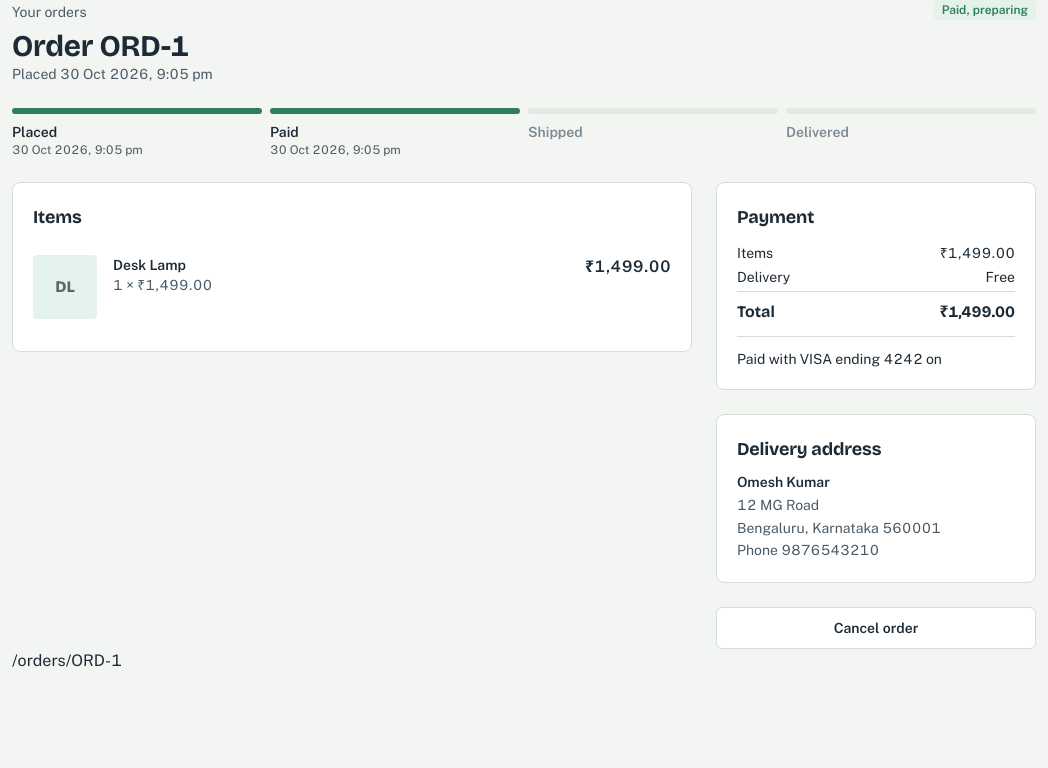
it: order page › cancels a paid order with a reason and says a refund is coming
Expected: the element with test id "order-status" reads "Paid, preparing", [942,3,1028,17]
Click the button "Cancel order": (876, 628) [716,607,1036,649]
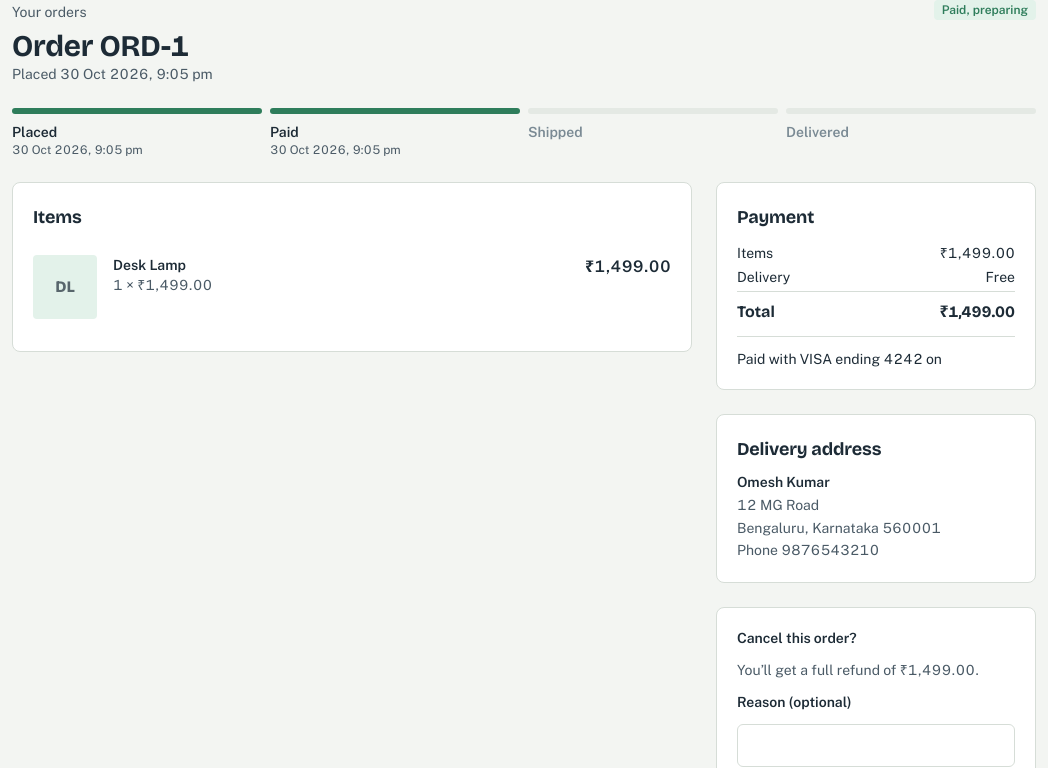
Result: the text "You’ll get a full refund of ₹1,499.00." is shown at [737,660,1015,680]
In the field labelled "Reason (optional)": (876, 746) [737,724,1015,767], type "Ordered by mistake"
(page scrolled)
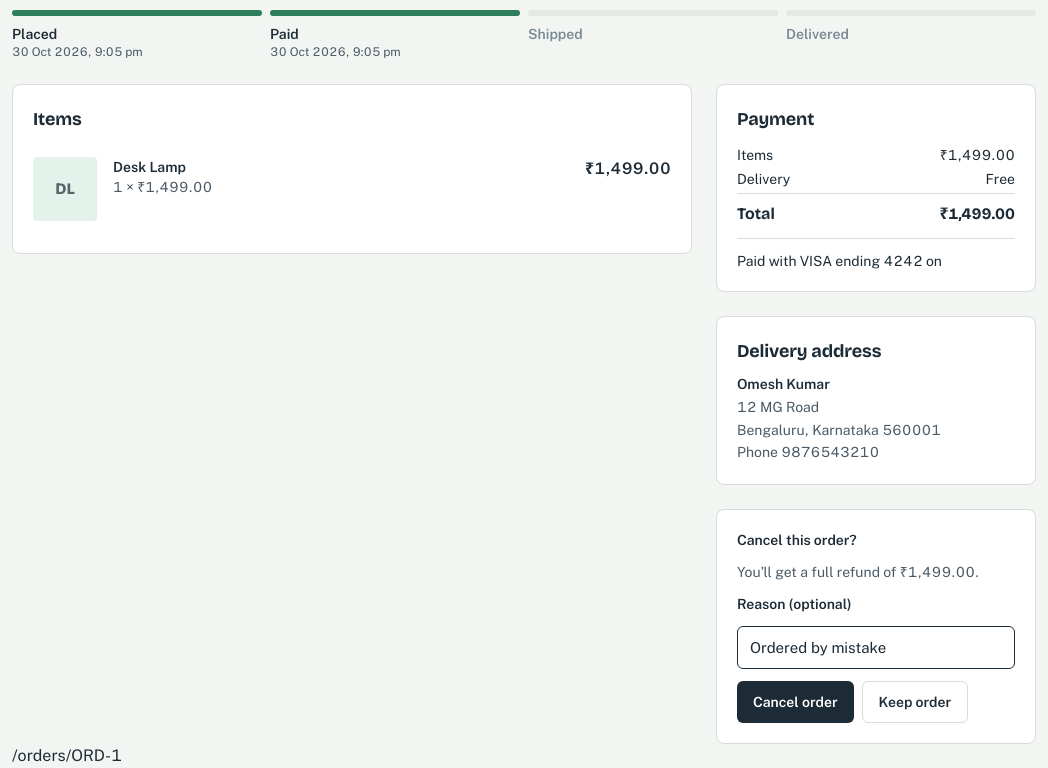
Click the button "Cancel order": (795, 702) [737,681,854,723]
(page scrolled)
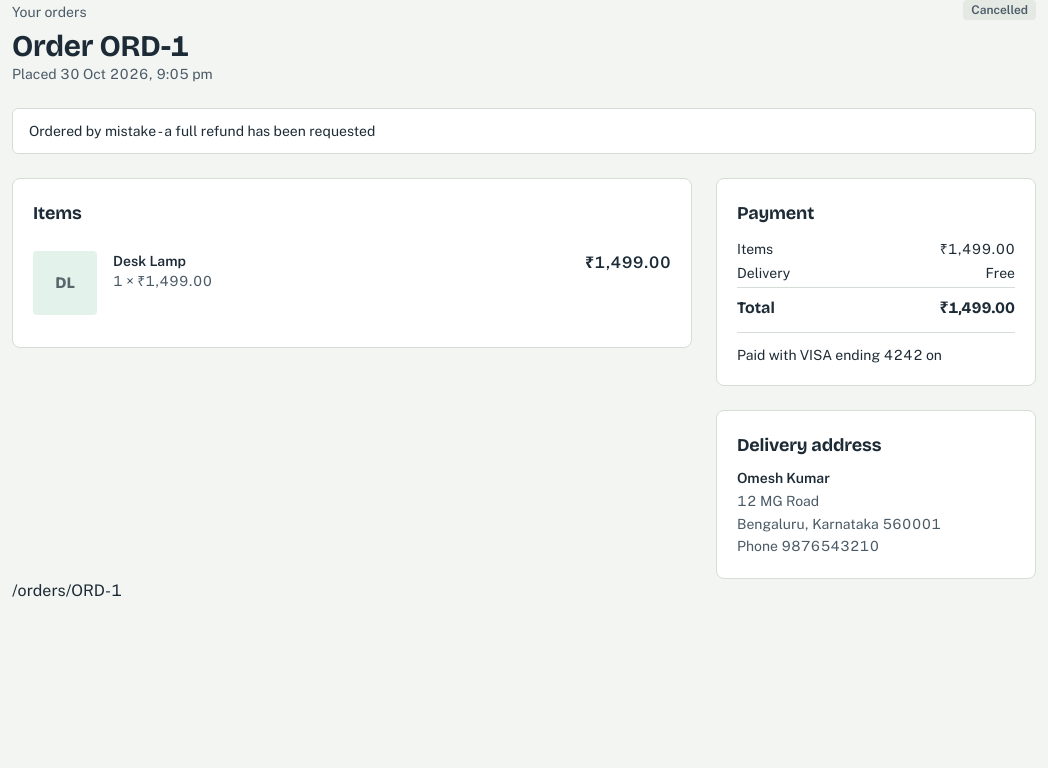
Result: the text "Ordered by mistake - a full refund has been requested" is shown at [12,108,1036,154]
Result: the element with test id "order-status" reads "Cancelled" at [971,3,1028,17]
